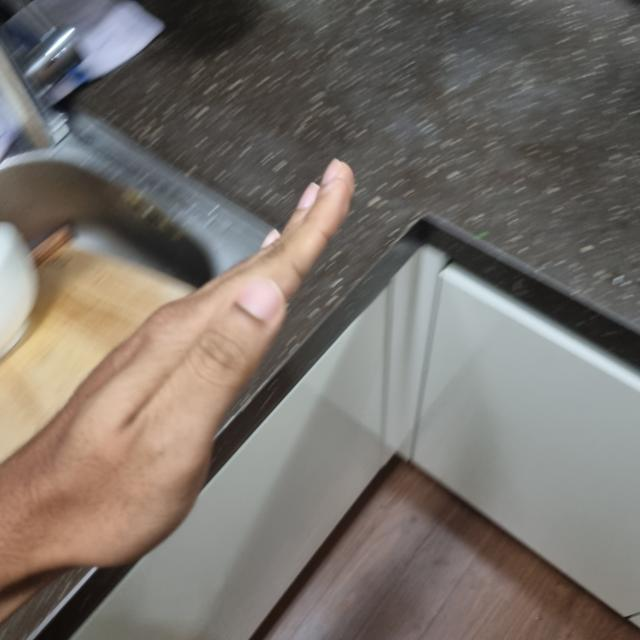Paper: (1, 162, 358, 566)
